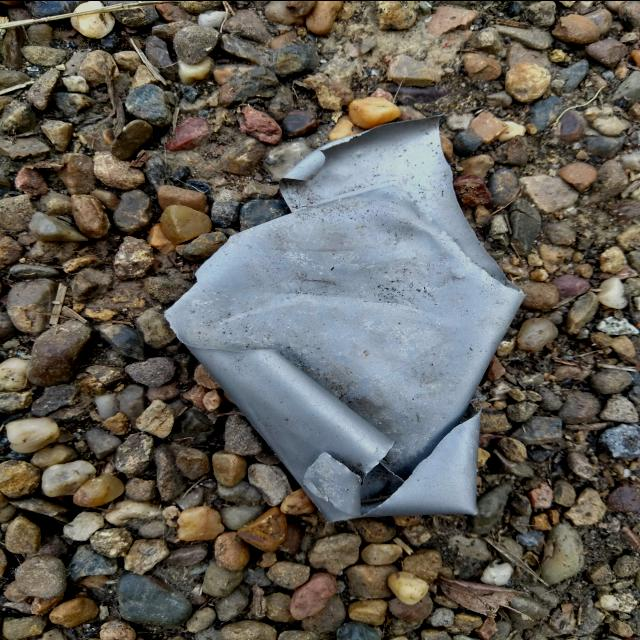Other plastic bottle: (164, 114, 526, 522)
